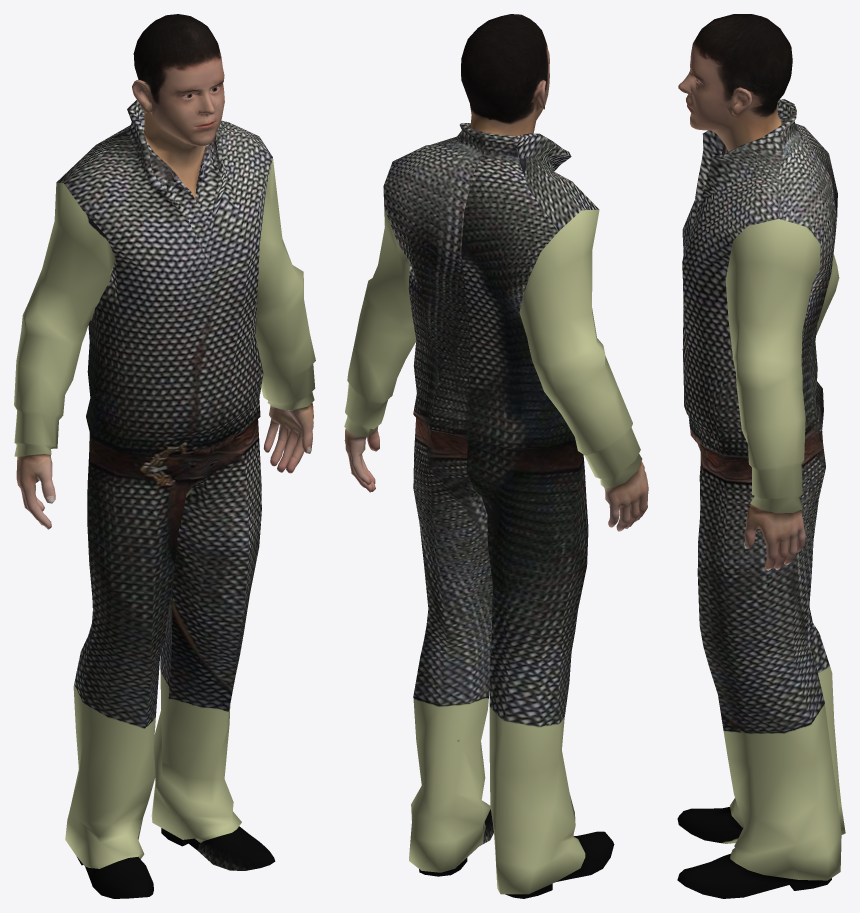
Rendered from Bøddel.FBX.
The picture shows the model from 3 angles, left to right: view 1: azimuth 30°, elevation 25°; view 2: azimuth 150°, elevation 25°; view 3: azimuth 270°, elevation 25°; orthographic projection.
Parts seen in each view (by area): view 1: CMan0002-M3-Body; view 2: CMan0002-M3-Body; view 3: CMan0002-M3-Body.
Part boxes in pixels (x1,y1,x2,y2): CMan0002-M3-Body: (14, 14, 315, 898); CMan0002-M3-Body: (344, 14, 648, 898); CMan0002-M3-Body: (677, 14, 845, 898).
Size of the model in its own units: 0.6677 by 1.82 by 0.3275.
